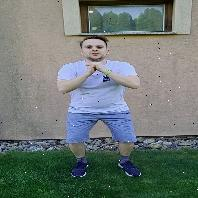squats: (53, 27, 151, 191)
